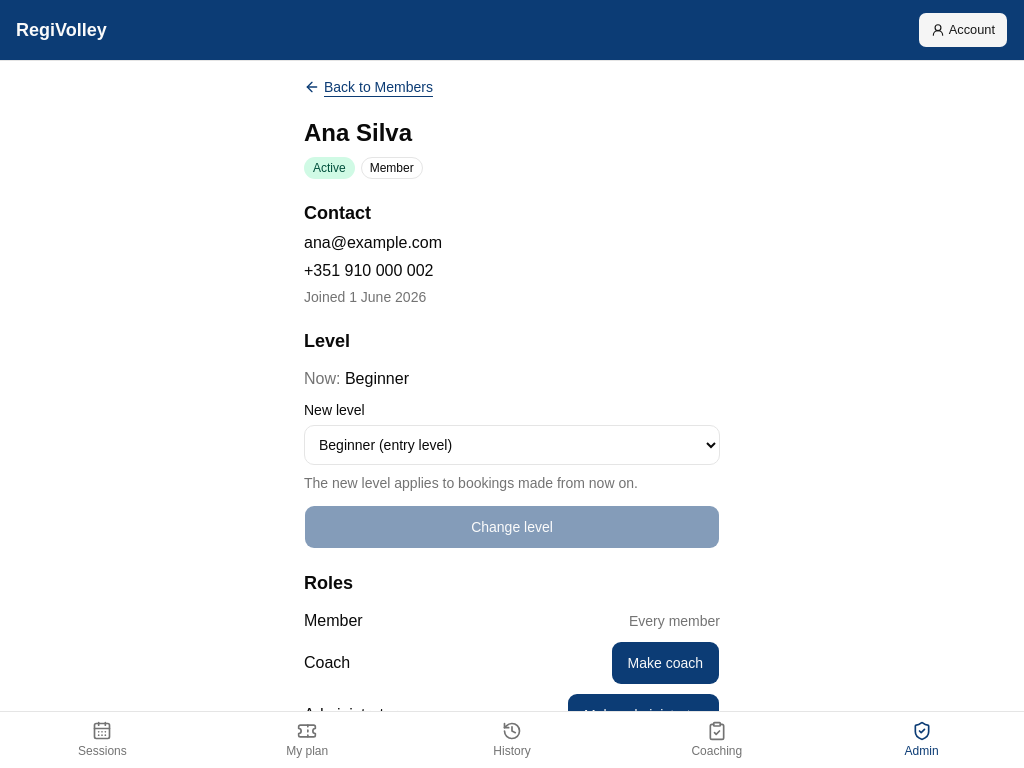
Test: roles › grants COACH with one request and reports it
The image size is (1024, 768).
Expected: the heading "Ana Silva" is shown, [304, 119, 412, 146]
Click the button "Make coach": {"x": 665, "y": 663} [610, 641, 720, 685]
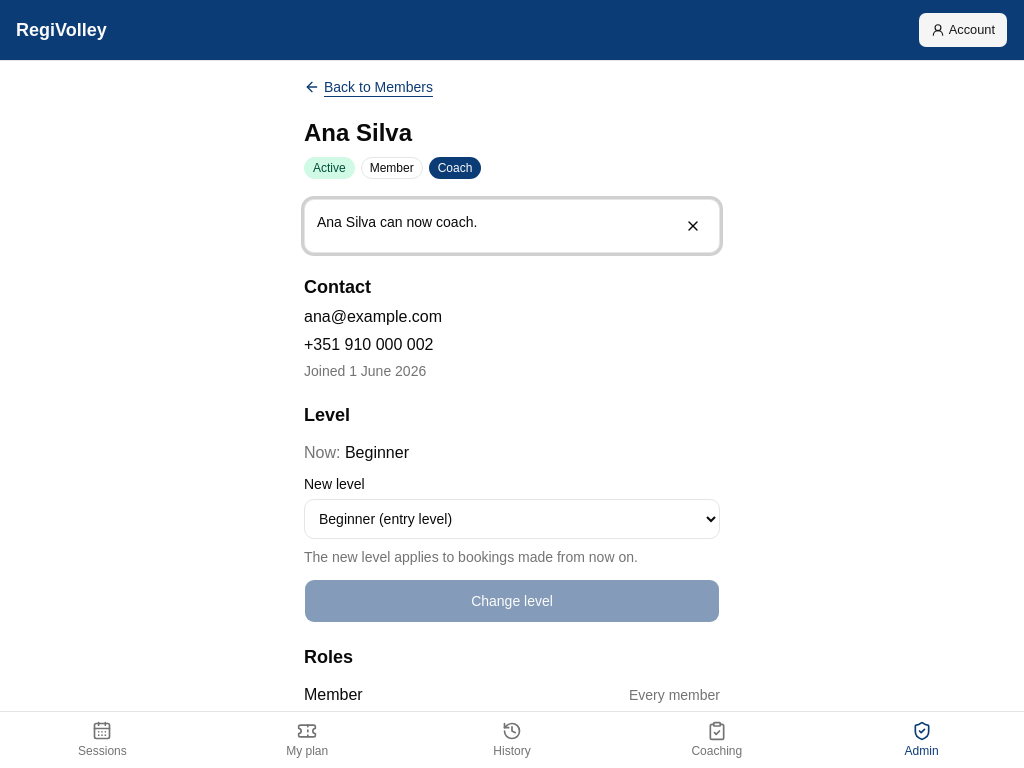
Expected: the button "Remove coach role" is shown, [565, 715, 720, 759]
Expected: the message reads "Ana Silva can now coach.", [317, 214, 477, 230]
